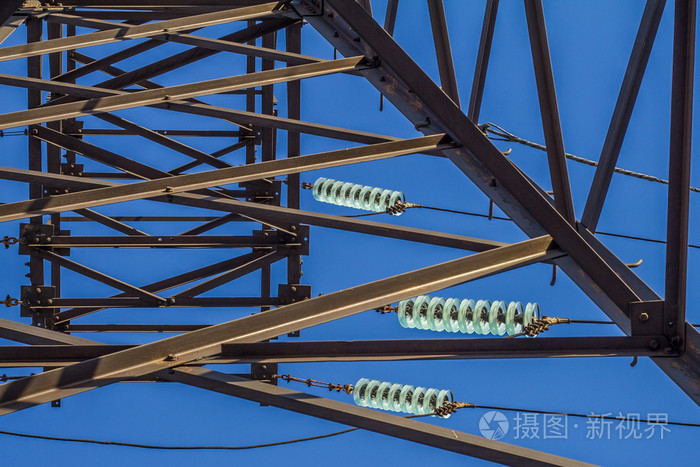insulator: (398, 297, 541, 338), (352, 378, 456, 418), (311, 177, 403, 215)
